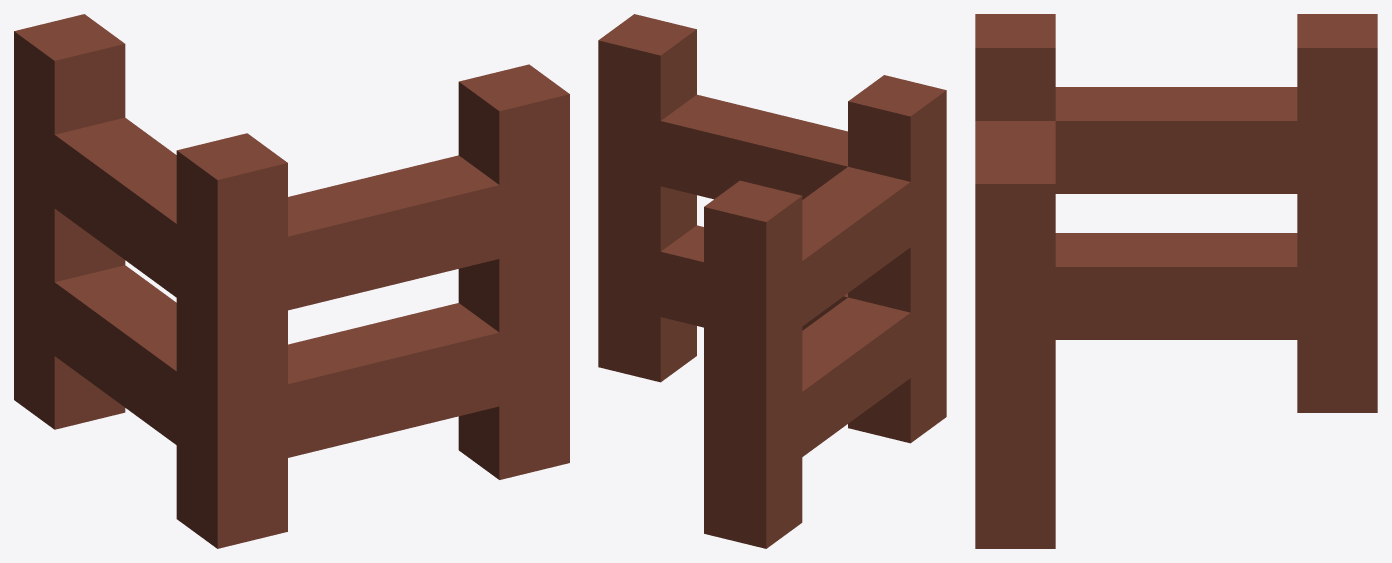
3 views of the same model, side by side, from view 1: azimuth 30°, elevation 25°; view 2: azimuth 150°, elevation 25°; view 3: azimuth 270°, elevation 25° (orthographic). The views are drawn at different scales.
Size of the model in its own units: 16 by 16 by 16.
